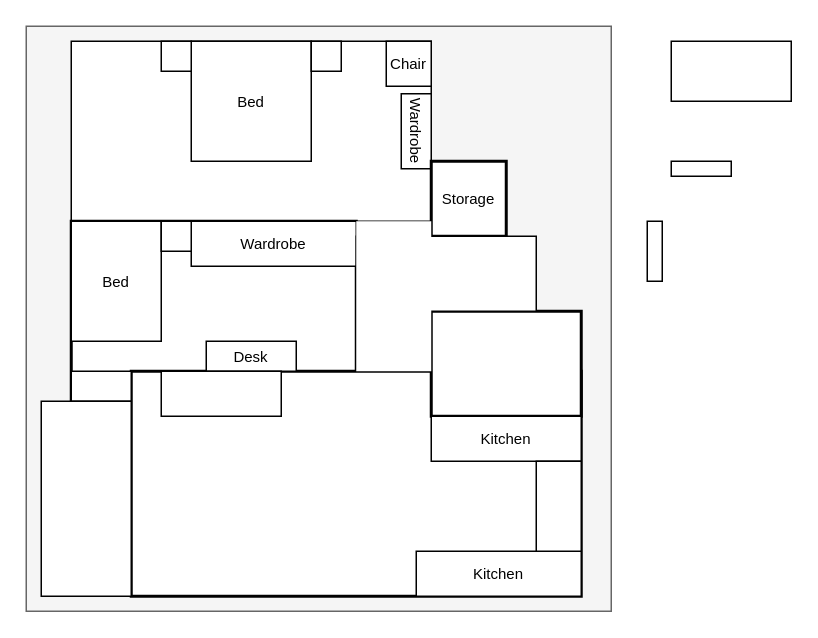
This 818x638 diagram has some shape labels left out. Here are the shapes that lost their labels. From the top down, the box of each, then its label:
(670, 40, 791, 101): 1sq = 1m x 1m
(429, 309, 582, 417): Bathroom
(70, 370, 131, 401): Shelf
(160, 370, 281, 416): Sofa
(40, 400, 131, 596): Balcony
